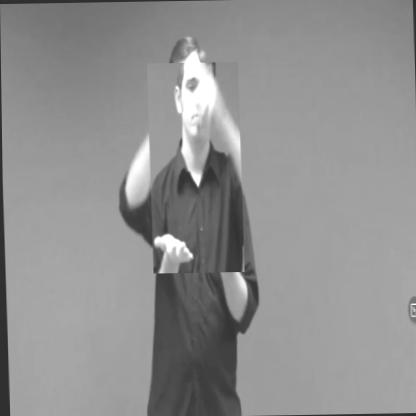Expensive: (146, 62, 244, 274)
